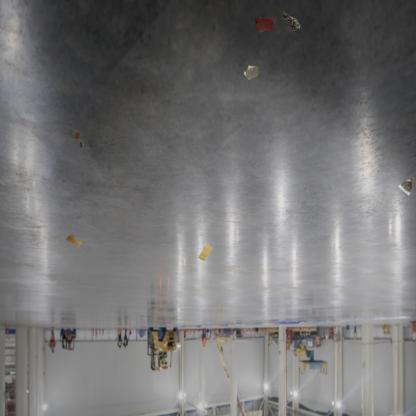dirty: (396, 176, 415, 196), (197, 241, 214, 263), (282, 11, 300, 31), (242, 64, 260, 81), (72, 127, 85, 149)
liquid: (254, 16, 274, 34), (65, 233, 86, 250)
